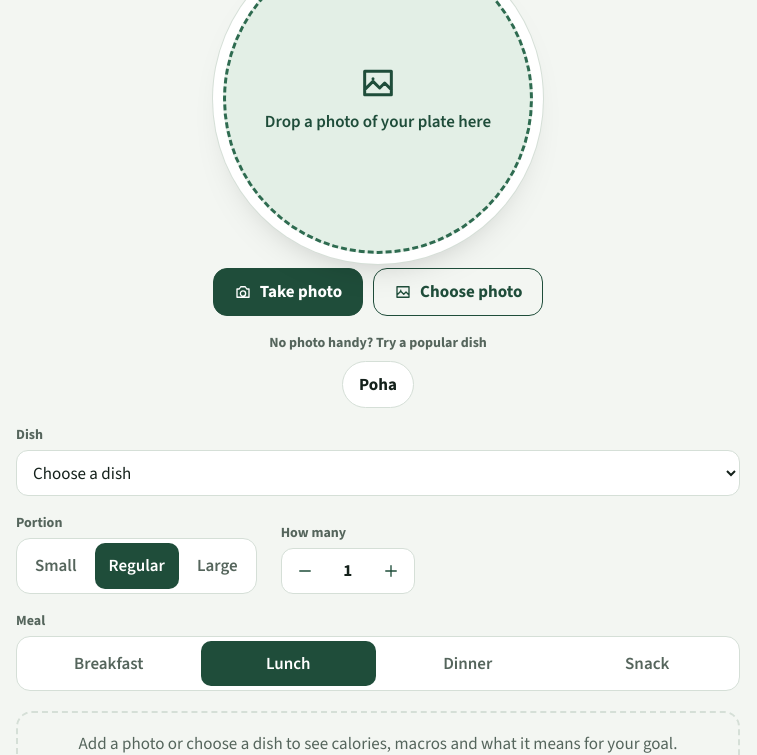
Nutrition Analyzer UI › offers one-tap popular dishes and shows a full result without any photo
(page scrolled)
Click the button "Poha": coordinates (378, 384) [342,360,414,408]
(page scrolled)
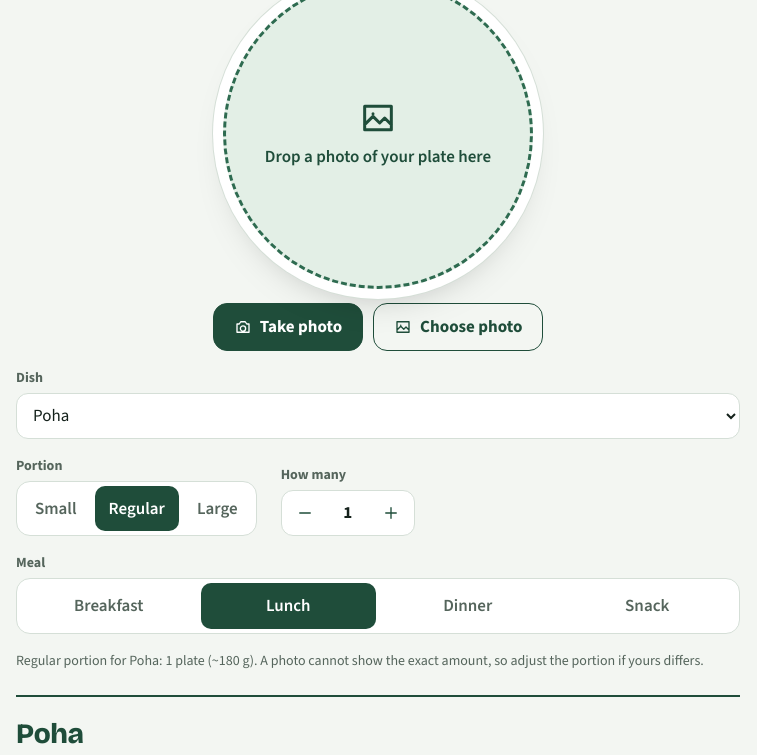
Result: the text "Regular portion for Poha" is shown at [16,650,740,670]
